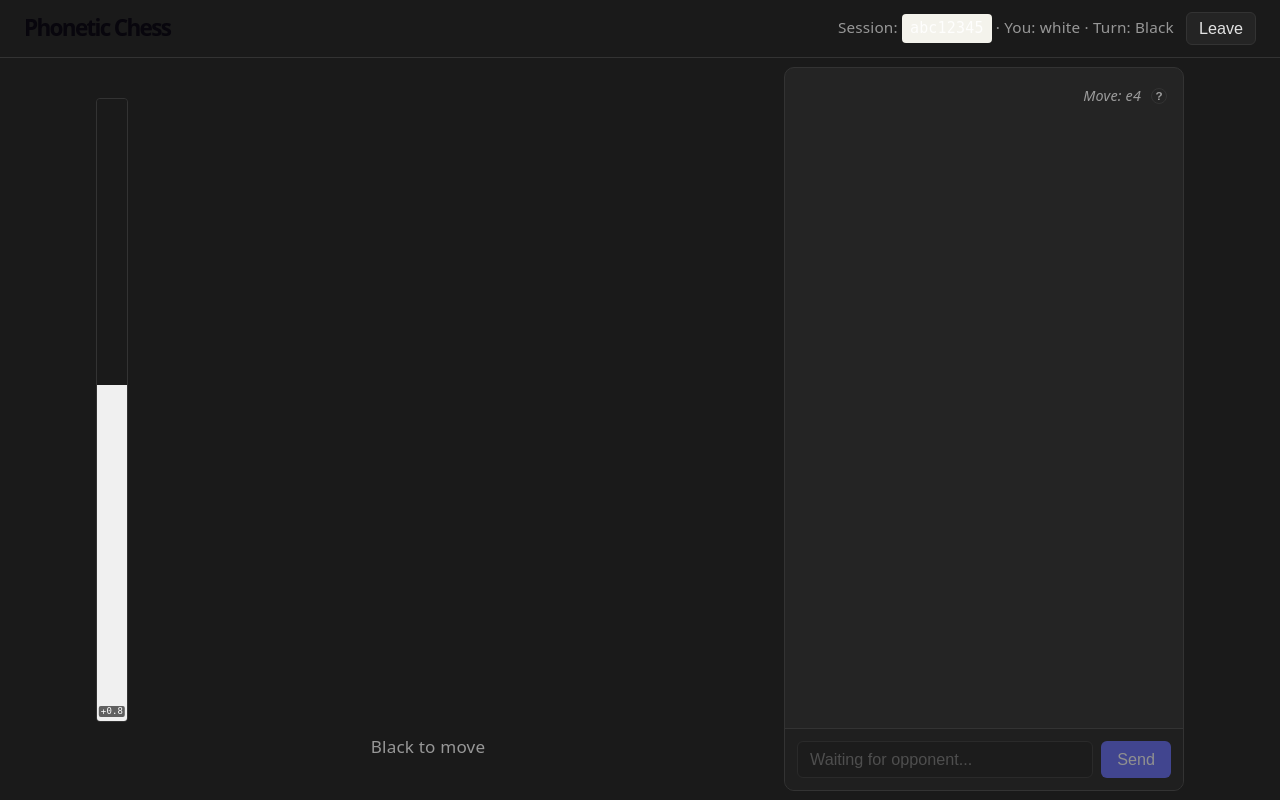
Test: invariant 9 — the panel exists without a fetch › renders the prior tone straight from the move payload
Click the button named "why this move" at (1159,96), box [1151,88,1167,104]
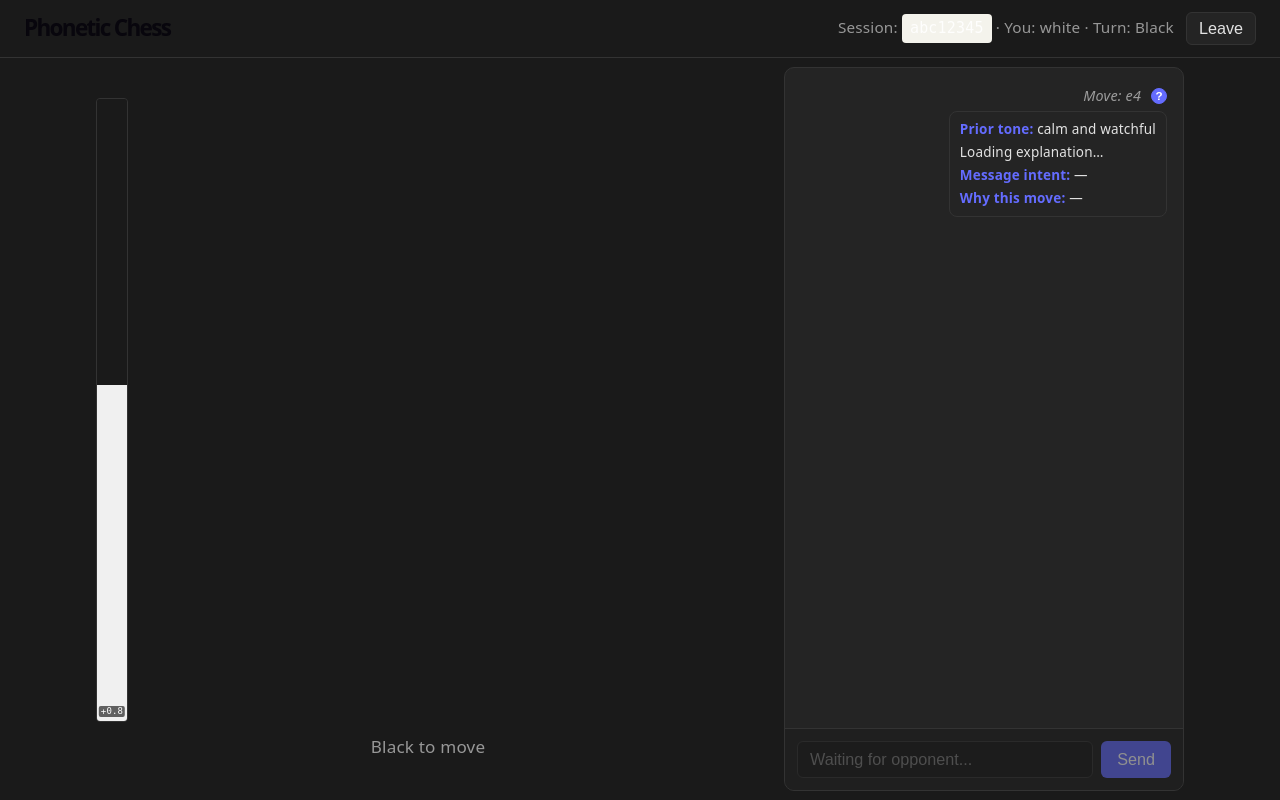
Now the text "Prior tone: calm and watchful" is shown, box [960,120,1156,139]
